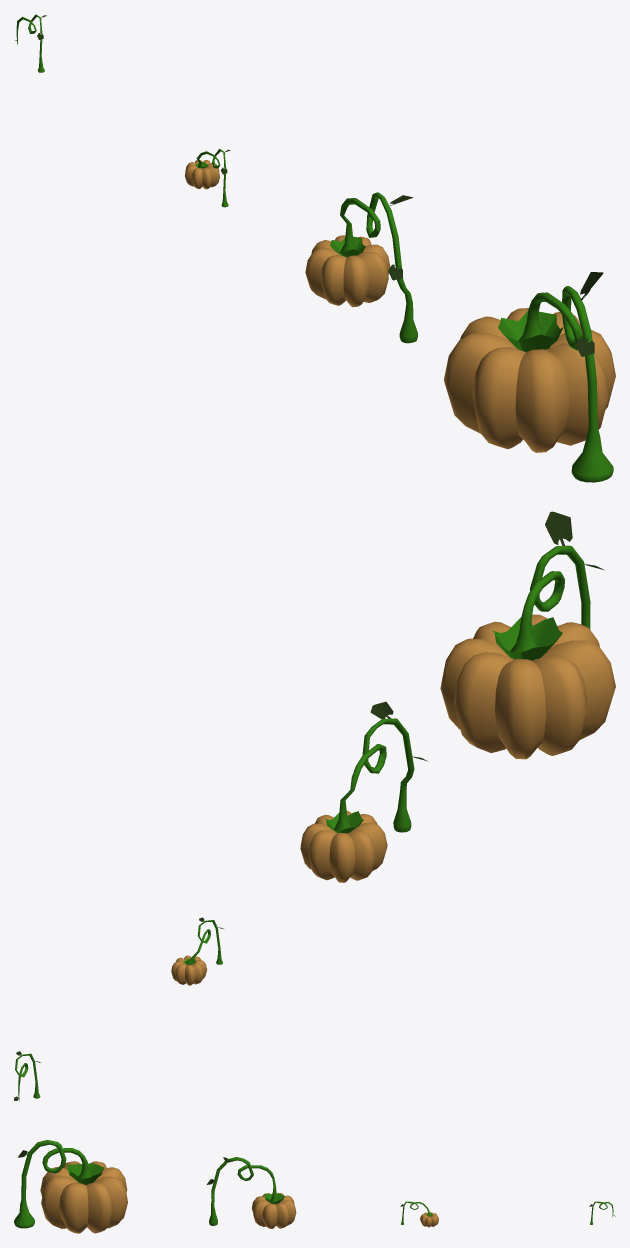
File: citrouilles 1.fbx
3 renders of one model, top to bottom at view 1: azimuth 30°, elevation 25°; view 2: azimuth 150°, elevation 25°; view 3: azimuth 270°, elevation 25°, orthographic. The views are drawn at different scales.
Parts seen in each view (by area): view 1: Sphere, Sphere.001, Sphere.002, Sphere.003, Sphere.004; view 2: Sphere, Sphere.001, Sphere.002, Sphere.003, Sphere.004; view 3: Sphere, Sphere.001, Sphere.002, Sphere.003, Sphere.004.
Part boxes in pixels (bbox=[...]): Sphere: bbox=[444, 308, 615, 452]; Sphere.001: bbox=[498, 286, 613, 482]; Sphere.002: bbox=[305, 235, 390, 307]; Sphere.003: bbox=[330, 192, 417, 343]; Sphere.004: bbox=[185, 160, 219, 189]; Sphere: bbox=[440, 614, 615, 759]; Sphere.001: bbox=[493, 545, 590, 660]; Sphere.002: bbox=[300, 810, 387, 882]; Sphere.003: bbox=[325, 718, 414, 833]; Sphere.004: bbox=[171, 955, 207, 985]; Sphere: bbox=[40, 1161, 127, 1233]; Sphere.001: bbox=[14, 1140, 104, 1228]; Sphere.002: bbox=[251, 1192, 296, 1228]; Sphere.003: bbox=[209, 1157, 284, 1225]; Sphere.004: bbox=[420, 1212, 438, 1227].
Size of the model in its own units: 88.03 by 114 by 637.
